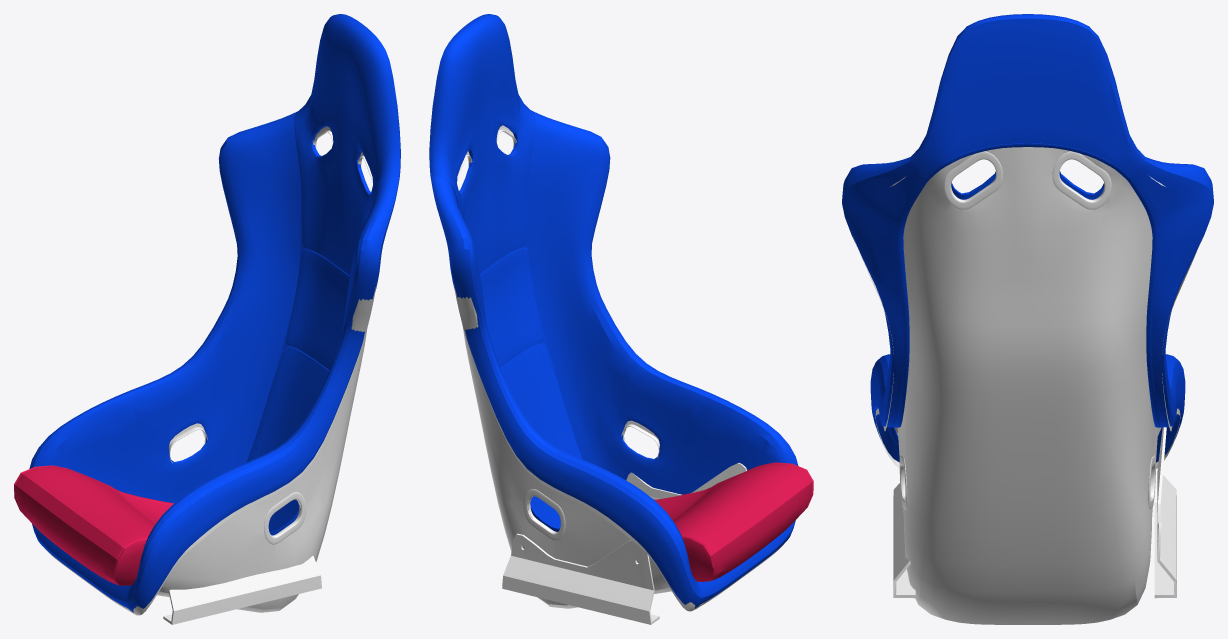
The model's file is auto3.glb.
3 renders of one model, left to right at view 1: azimuth 30°, elevation 25°; view 2: azimuth 150°, elevation 25°; view 3: azimuth 270°, elevation 25°, orthographic. The views are drawn at different scales.
Parts seen in each view (by area): view 1: par1, Mesh_Plane.000_Plane.005, par2, Mesh.004_Plane, Mesh.002_Plane.002_Plane.001; view 2: par1, par2, Mesh_Plane.000_Plane.005, Mesh.004_Plane, Mesh.002_Plane.002_Plane.001; view 3: Mesh_Plane.000_Plane.005, par1, Mesh.004_Plane, Mesh.002_Plane.002_Plane.001.
Part boxes in pixels (x1,y1,x2,y2): par1: [29, 14, 400, 612]; Mesh_Plane.000_Plane.005: [42, 128, 393, 615]; par2: [14, 465, 173, 585]; Mesh.004_Plane: [163, 555, 321, 624]; Mesh.002_Plane.002_Plane.001: [169, 126, 372, 544]; par1: [429, 14, 798, 608]; par2: [654, 462, 813, 581]; Mesh_Plane.000_Plane.005: [436, 127, 785, 611]; Mesh.004_Plane: [502, 463, 746, 624]; Mesh.002_Plane.002_Plane.001: [457, 125, 659, 540]; Mesh_Plane.000_Plane.005: [854, 147, 1201, 624]; par1: [842, 14, 1213, 462]; Mesh.004_Plane: [893, 427, 1176, 598]; Mesh.002_Plane.002_Plane.001: [899, 151, 1155, 509].
Size of the model in its own units: 1.47 by 2.51 by 1.24.
